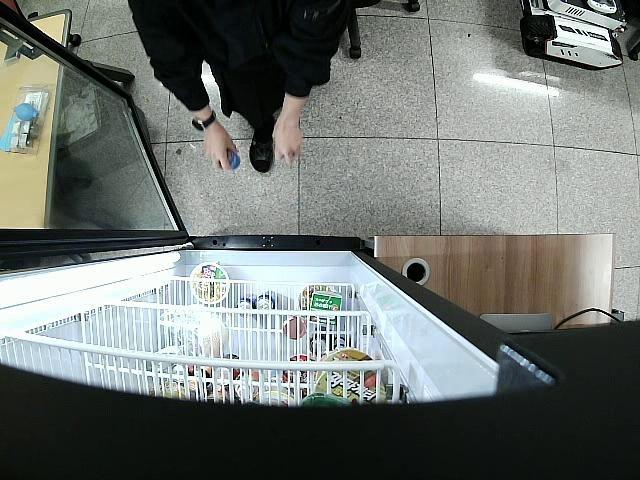15_letsbe: (225, 149, 241, 169)
